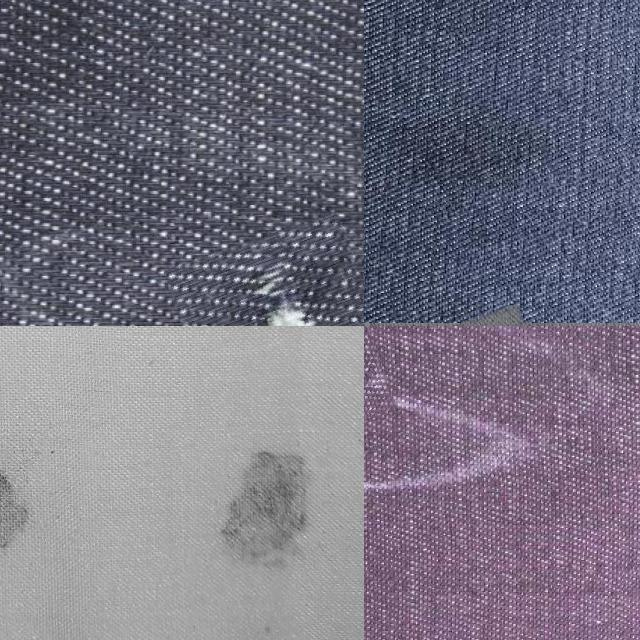Thread_other: (208, 434, 326, 600), (0, 444, 32, 615)
stains: (172, 224, 364, 326)
